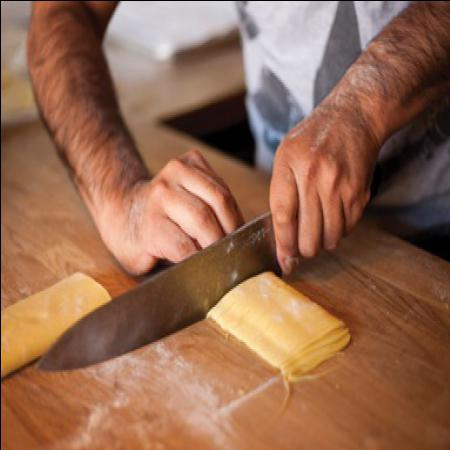long weapon: (27, 186, 365, 378)
